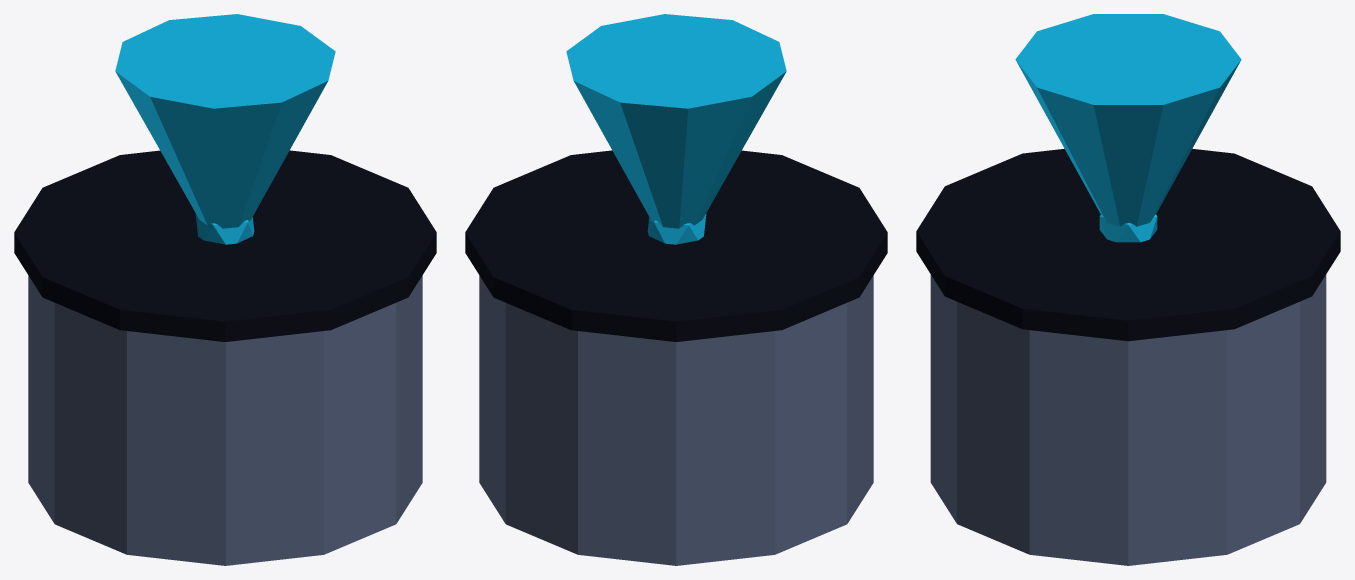
The model's file is holo_table.obj.
3 views of the same model, side by side, from view 1: azimuth 30°, elevation 25°; view 2: azimuth 150°, elevation 25°; view 3: azimuth 270°, elevation 25° (orthographic).
Visible parts, largest first — view 1: holo_table; view 2: holo_table; view 3: holo_table.
Part boxes in pixels (bbox=[...]): holo_table: bbox=[14, 14, 436, 565]; holo_table: bbox=[465, 14, 887, 565]; holo_table: bbox=[916, 14, 1340, 565].
Bounding box in the file's own units: 1.5 × 1.65 × 1.5.
